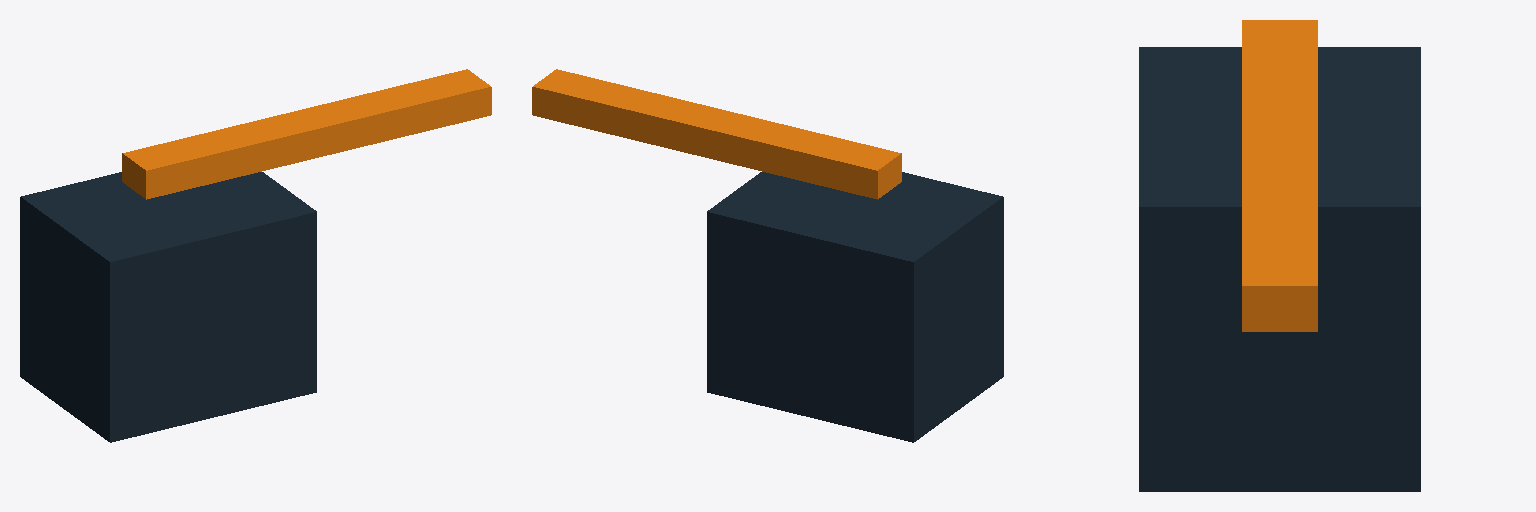
The robot description file, URDF, robot "axiom_servo_target_preview":
<?xml version="1.0"?>
<!-- Schematic target preview, not a calibrated model of a particular servo. -->
<robot name="axiom_servo_target_preview">
  <link name="axiom_servo_demo_base">
    <visual>
      <origin xyz="0 0 0.025"/>
      <geometry><box size="0.06 0.045 0.05"/></geometry>
      <material name="case"><color rgba="0.16 0.22 0.27 1"/></material>
    </visual>
  </link>
  <link name="servo_horn">
    <visual>
      <origin xyz="0.04 0 0"/>
      <geometry><box size="0.1 0.012 0.008"/></geometry>
      <material name="horn"><color rgba="0.95 0.55 0.12 1"/></material>
    </visual>
  </link>
  <joint name="servo_joint" type="revolute">
    <parent link="axiom_servo_demo_base"/>
    <child link="servo_horn"/>
    <origin xyz="0 0 0.06"/>
    <axis xyz="0 0 1"/>
    <limit lower="-1.5707963267948966" upper="1.5707963267948966" effort="1" velocity="1"/>
  </joint>
</robot>

--- Render facts (derived) ---
The picture shows the robot from 3 angles, left to right: view 1: azimuth 30°, elevation 25°; view 2: azimuth 150°, elevation 25°; view 3: azimuth 270°, elevation 25°; orthographic projection.
Robot: axiom_servo_target_preview — 2 links, 1 joints (1 revolute); root link axiom_servo_demo_base; default pose: all joints at 0.
Links seen in each view (by area): view 1: axiom_servo_demo_base, servo_horn; view 2: axiom_servo_demo_base, servo_horn; view 3: axiom_servo_demo_base, servo_horn.
Link boxes in pixels (<box>): axiom_servo_demo_base: <box>20,172,316,442</box>; servo_horn: <box>122,69,491,199</box>; axiom_servo_demo_base: <box>707,172,1003,442</box>; servo_horn: <box>532,69,901,199</box>; axiom_servo_demo_base: <box>1139,47,1420,491</box>; servo_horn: <box>1242,20,1317,331</box>.
Bounding box of the posed robot: 0.12 × 0.045 × 0.064 m (x, y, z).
Geometry: primitives only (box / cylinder / sphere), no mesh files.
